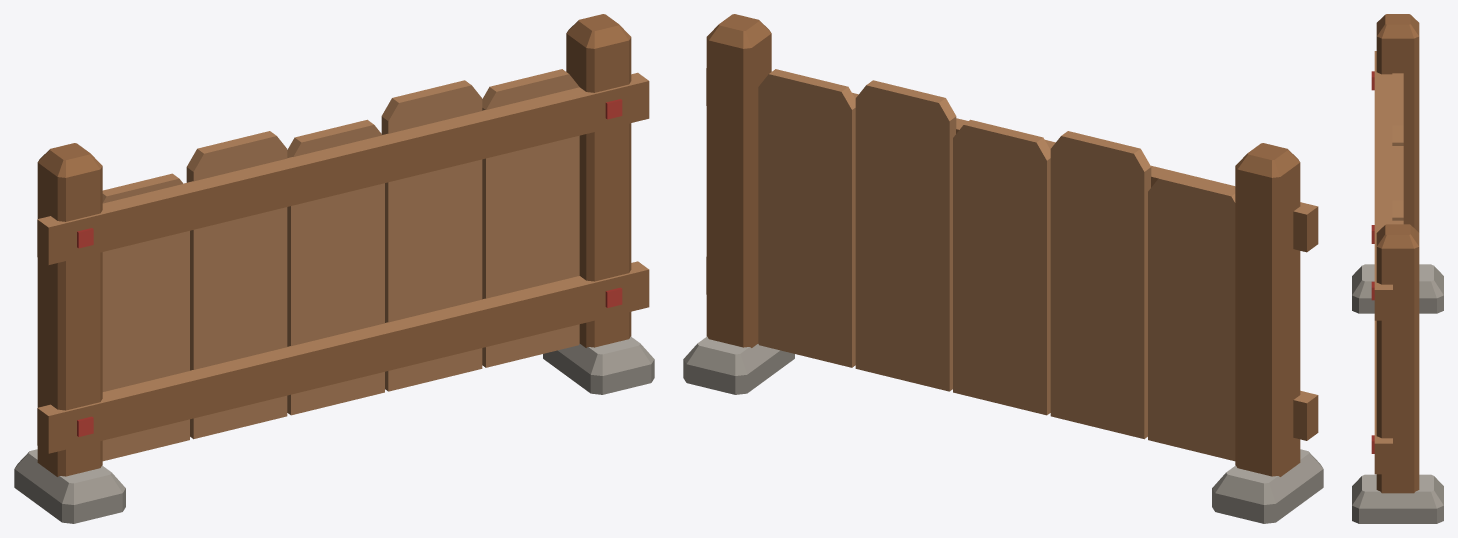
Rendered from FMS_Workshop_MOD_10.fbx.
3 renders of one model, left to right at view 1: azimuth 30°, elevation 25°; view 2: azimuth 150°, elevation 25°; view 3: azimuth 270°, elevation 25°, orthographic. The views are drawn at different scales.
Visible parts, largest first — view 1: FMS_Workshop_MOD_10_Body; view 2: FMS_Workshop_MOD_10_Body; view 3: FMS_Workshop_MOD_10_Body.
Part boxes in pixels (x1,y1,x2,y2): FMS_Workshop_MOD_10_Body: (14,14,654,523); FMS_Workshop_MOD_10_Body: (683,14,1323,523); FMS_Workshop_MOD_10_Body: (1352,14,1443,523).
Size of the model in its own units: 2 by 1.1 by 0.325.
1 material, 1 textured.
